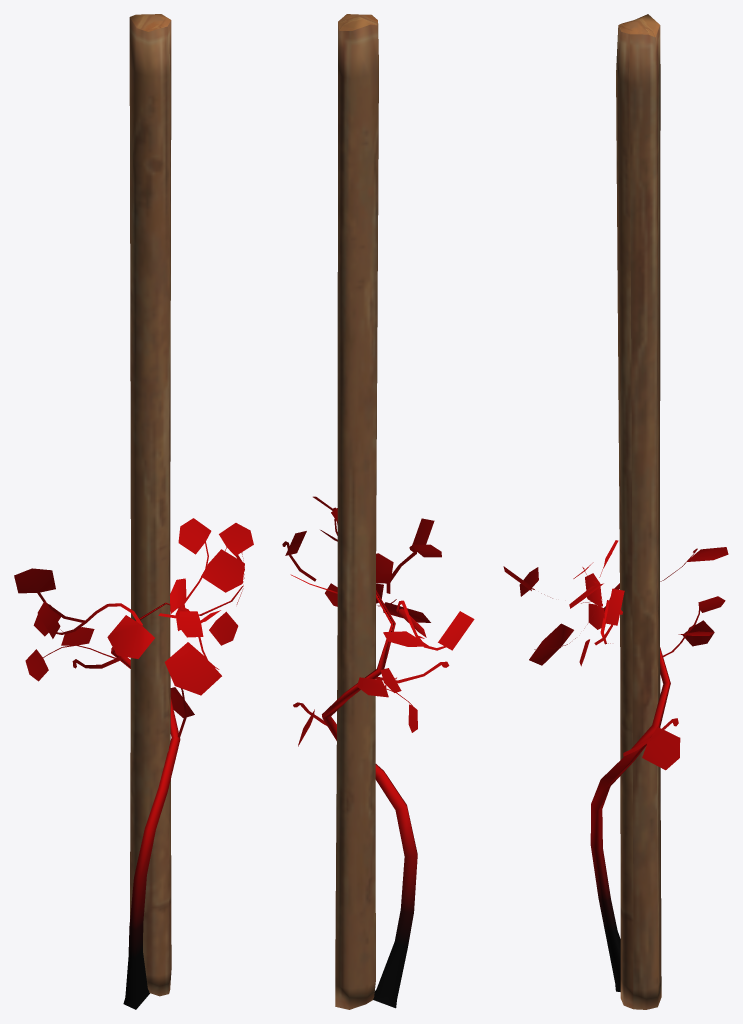
File: SM_Farm_GrapevineSeedling_01.fbx
3 views of the same model, side by side, from view 1: azimuth 30°, elevation 25°; view 2: azimuth 150°, elevation 25°; view 3: azimuth 270°, elevation 25° (orthographic).
Visible parts, largest first — view 1: SM_Farm_GrapevineSeedling_01_LOD0; view 2: SM_Farm_GrapevineSeedling_01_LOD0; view 3: SM_Farm_GrapevineSeedling_01_LOD0.
Boxes of the visible parts, <box> form: SM_Farm_GrapevineSeedling_01_LOD0: <box>14,14,253,1009</box>; SM_Farm_GrapevineSeedling_01_LOD0: <box>282,14,474,1009</box>; SM_Farm_GrapevineSeedling_01_LOD0: <box>503,14,728,1009</box>.
Size of the model in its own units: 30.3 by 144 by 29.87.
